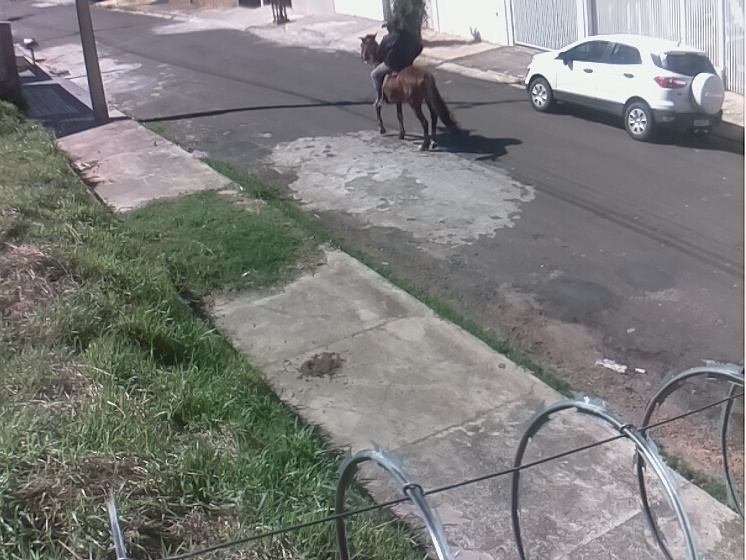person: (369, 19, 423, 104)
